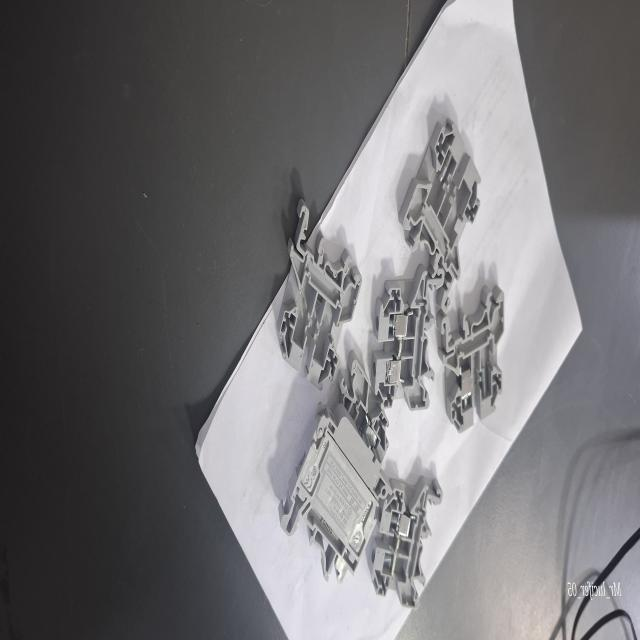Pass: (370, 264, 446, 412)
Reject: (277, 198, 363, 388), (404, 118, 482, 302), (436, 284, 506, 432), (371, 480, 445, 606)
